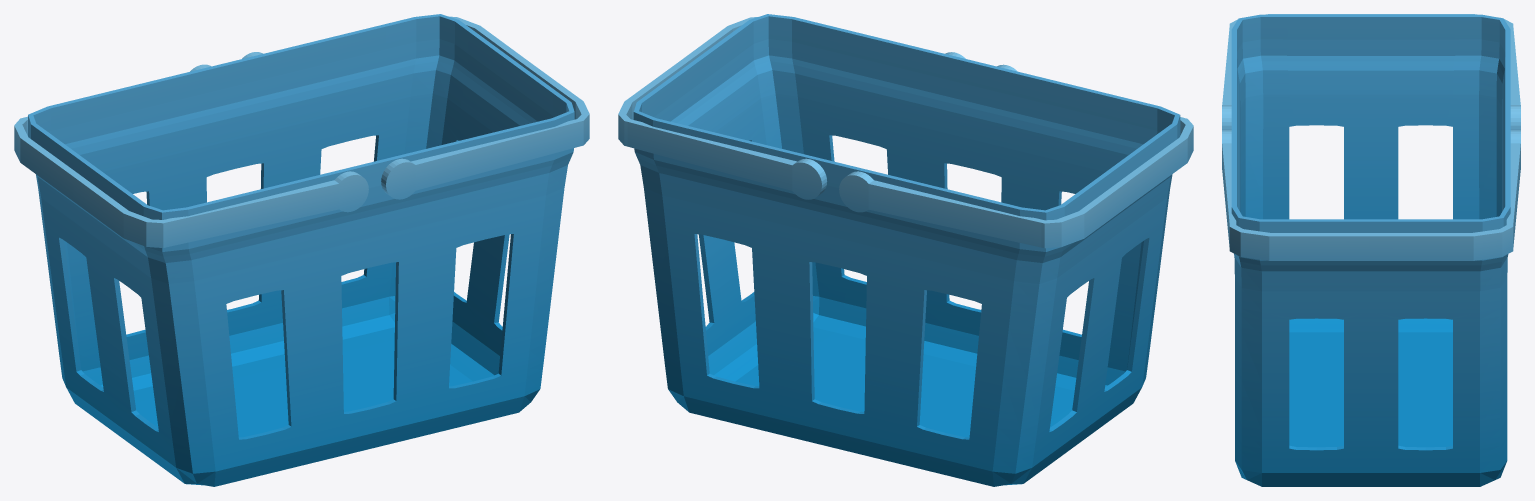
The model's file is basket_blue.fbx.
3 views of the same model, side by side, from view 1: azimuth 30°, elevation 25°; view 2: azimuth 150°, elevation 25°; view 3: azimuth 270°, elevation 25° (orthographic).
Parts seen in each view (by area): view 1: basket_blue, handle2_blue, handle1_blue; view 2: basket_blue, handle2_blue, handle1_blue; view 3: basket_blue, handle1_blue, handle2_blue.
Part boxes in pixels (x1,y1,x2,y2): basket_blue: [28, 14, 574, 486]; handle2_blue: [14, 64, 368, 247]; handle1_blue: [242, 16, 589, 199]; basket_blue: [633, 14, 1180, 486]; handle2_blue: [839, 64, 1193, 248]; handle1_blue: [618, 17, 965, 199]; basket_blue: [1231, 14, 1510, 486]; handle1_blue: [1222, 130, 1520, 260]; handle2_blue: [1222, 14, 1520, 129].
Size of the model in its own units: 344 by 211 by 195.
